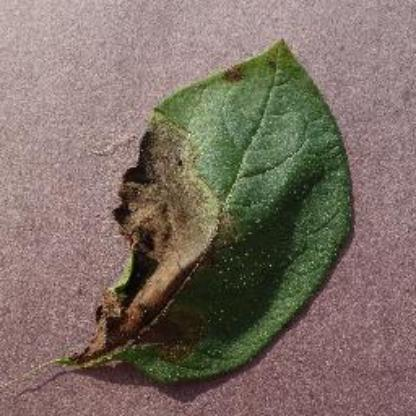Late-Blight: (49, 24, 361, 402)
